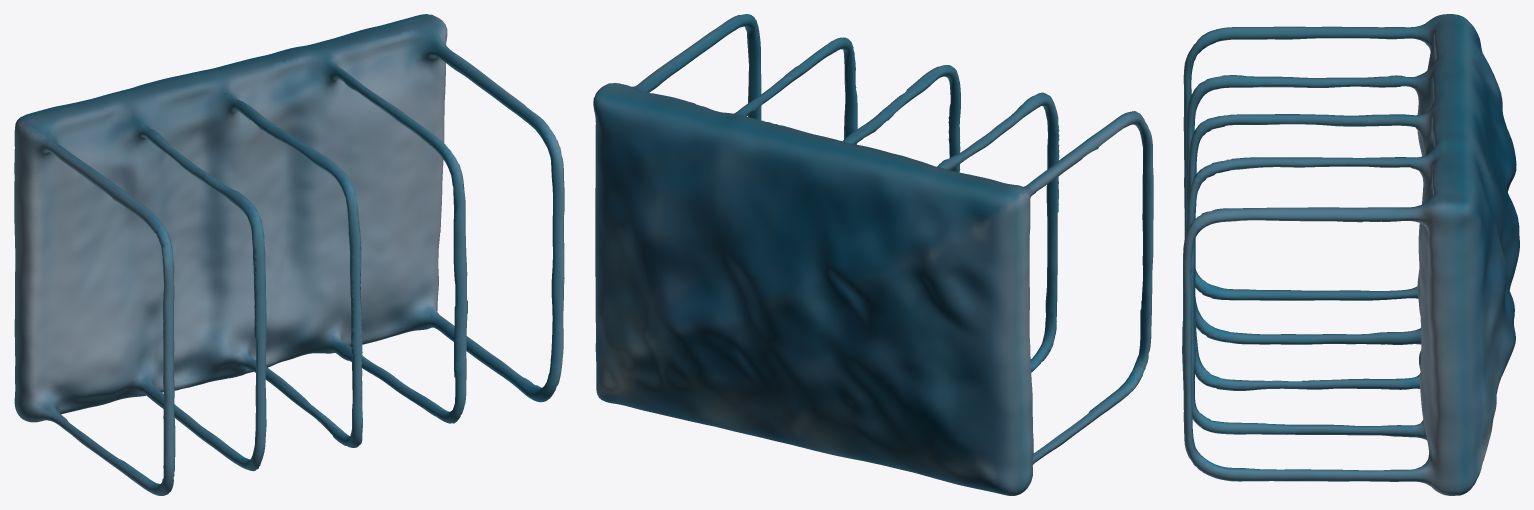
File: sorter.glb
3 renders of one model, left to right at view 1: azimuth 30°, elevation 25°; view 2: azimuth 150°, elevation 25°; view 3: azimuth 270°, elevation 25°, orthographic. The views are drawn at different scales.
Bounding box in the file's own units: 0.9997 × 0.6893 × 0.7108.
